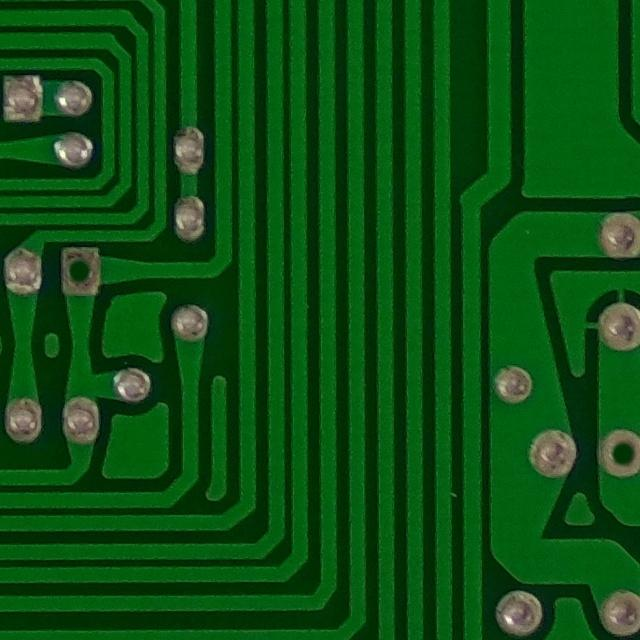missing_hole: (45, 240, 112, 301), (593, 420, 640, 481)
